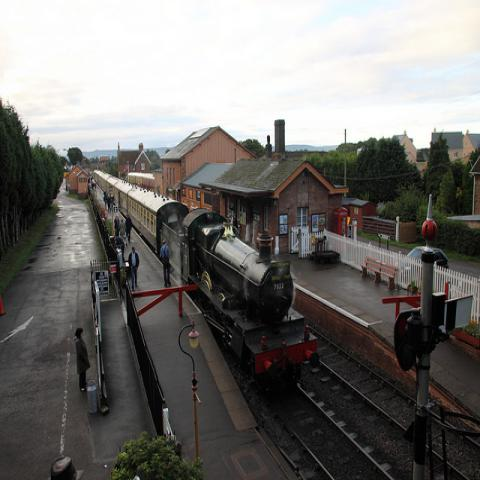car: (406, 246, 449, 269), (347, 225, 351, 239)
